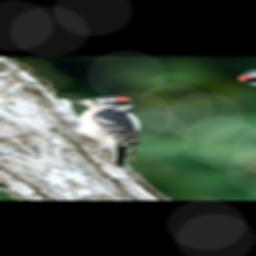Woodpecker: (29, 90, 207, 171)
